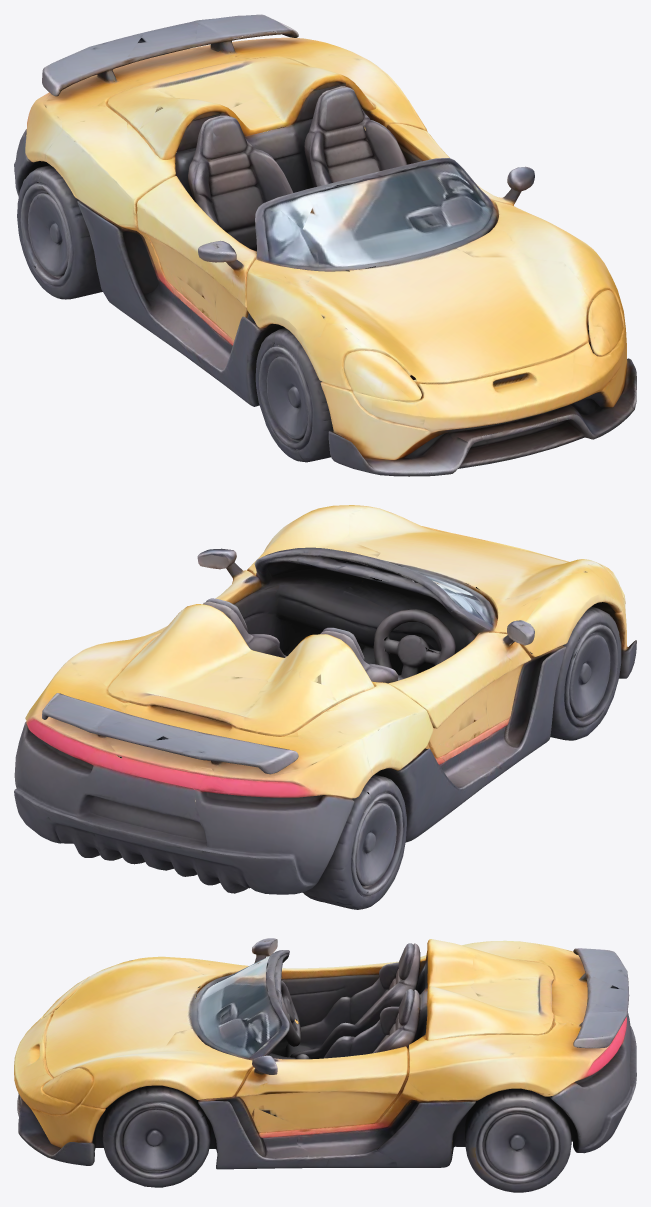
The model's file is bolt.glb.
3 views of the same model, one above another, from view 1: azimuth 30°, elevation 25°; view 2: azimuth 150°, elevation 25°; view 3: azimuth 270°, elevation 25° (orthographic). The views are drawn at different scales.
Visible parts, largest first — view 1: model; view 2: model; view 3: model.
Boxes of the visible parts, x1,y1,x2,y2 form: model: [14, 14, 636, 476]; model: [14, 505, 636, 909]; model: [14, 938, 636, 1192].
Bounding box in the file's own units: 0.9351 × 0.5532 × 1.89.
1 material, 1 textured.
